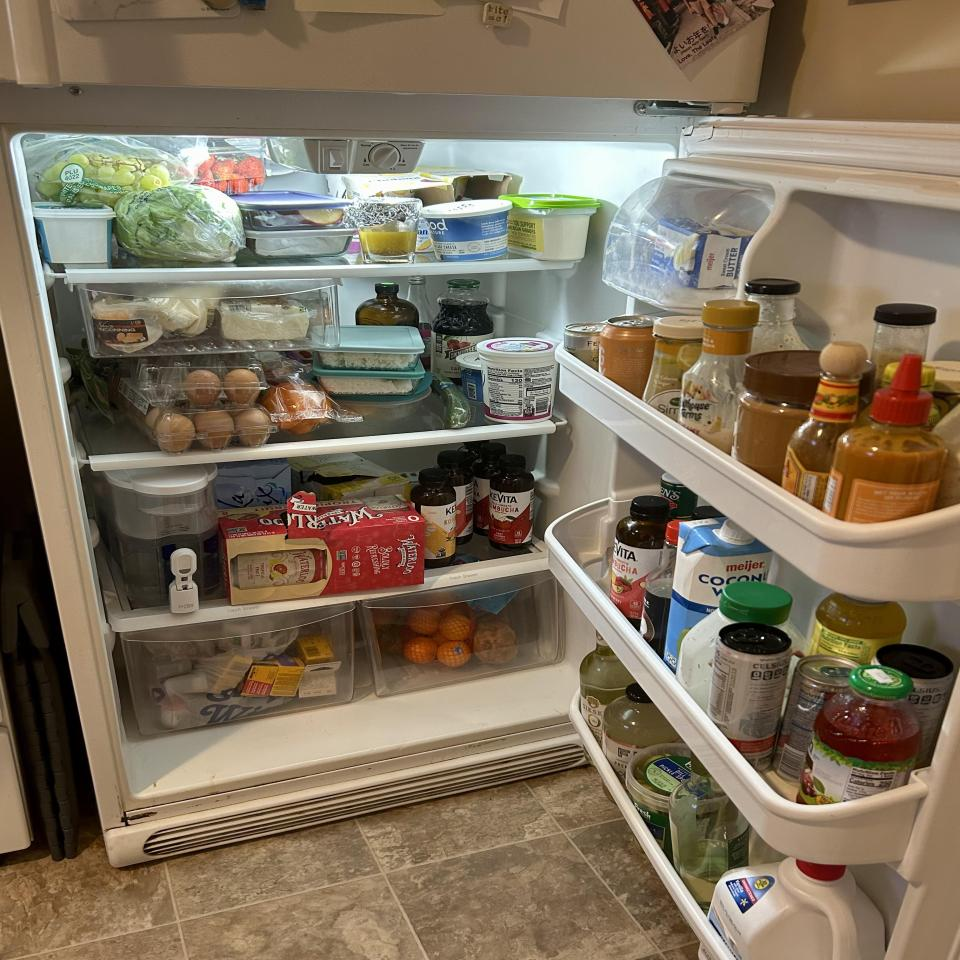Huevos: (139, 404, 275, 454), (136, 360, 267, 406)
Leche: (698, 858, 888, 960)
Lechuga/Endivia: (115, 186, 246, 263)
Mantequilla: (652, 220, 755, 289)
Pepino: (427, 372, 470, 429)
Yogur: (476, 336, 561, 424)
bell pepper: (266, 382, 331, 434)
orange: (440, 642, 470, 668), (406, 639, 437, 663), (411, 610, 439, 635), (442, 618, 471, 640)
strawberries: (180, 148, 266, 196)
